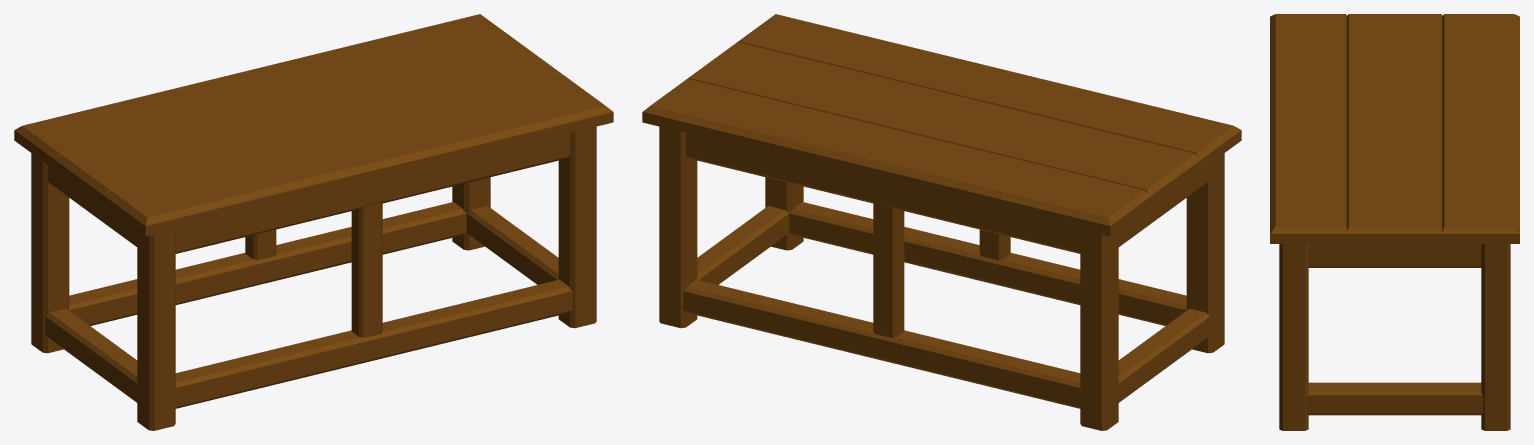
The model's file is SM_Furniture_PrepCounter_Umber_01.fbx.
3 renders of one model, left to right at view 1: azimuth 30°, elevation 25°; view 2: azimuth 150°, elevation 25°; view 3: azimuth 270°, elevation 25°, orthographic. The views are drawn at different scales.
Visible parts, largest first — view 1: SM_Furniture_PrepCounter_Umber_01; view 2: SM_Furniture_PrepCounter_Umber_01; view 3: SM_Furniture_PrepCounter_Umber_01.
Boxes of the visible parts, x1,y1,x2,y2 form: SM_Furniture_PrepCounter_Umber_01: (14, 14, 613, 430); SM_Furniture_PrepCounter_Umber_01: (642, 14, 1241, 430); SM_Furniture_PrepCounter_Umber_01: (1270, 14, 1519, 430).
Size of the model in its own units: 1.4 by 0.62 by 0.68.
Materials: 1 (1 with a texture image).
